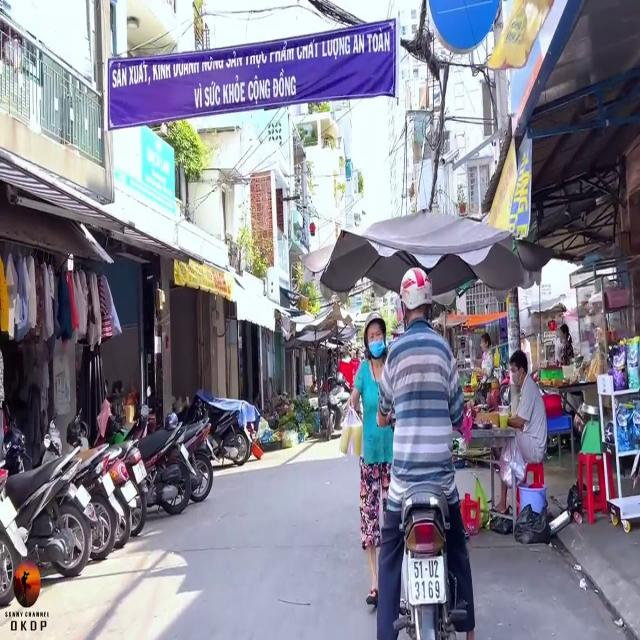bien_trang: (410, 549, 448, 606)
